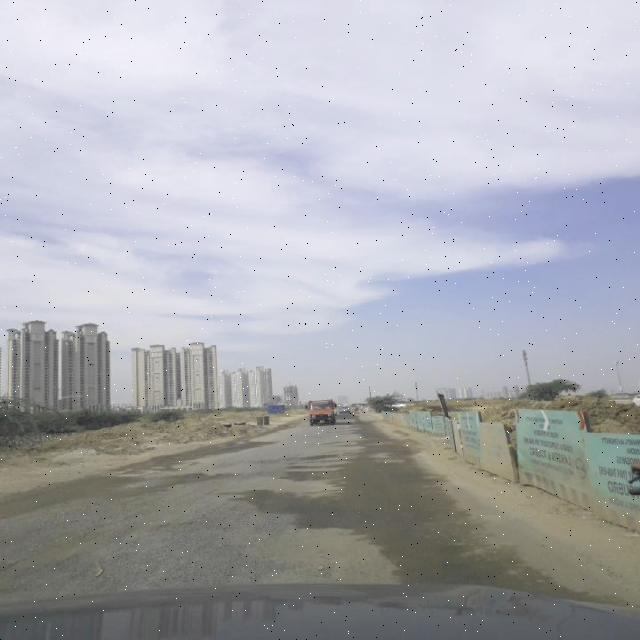D40: (1, 471, 346, 587)
